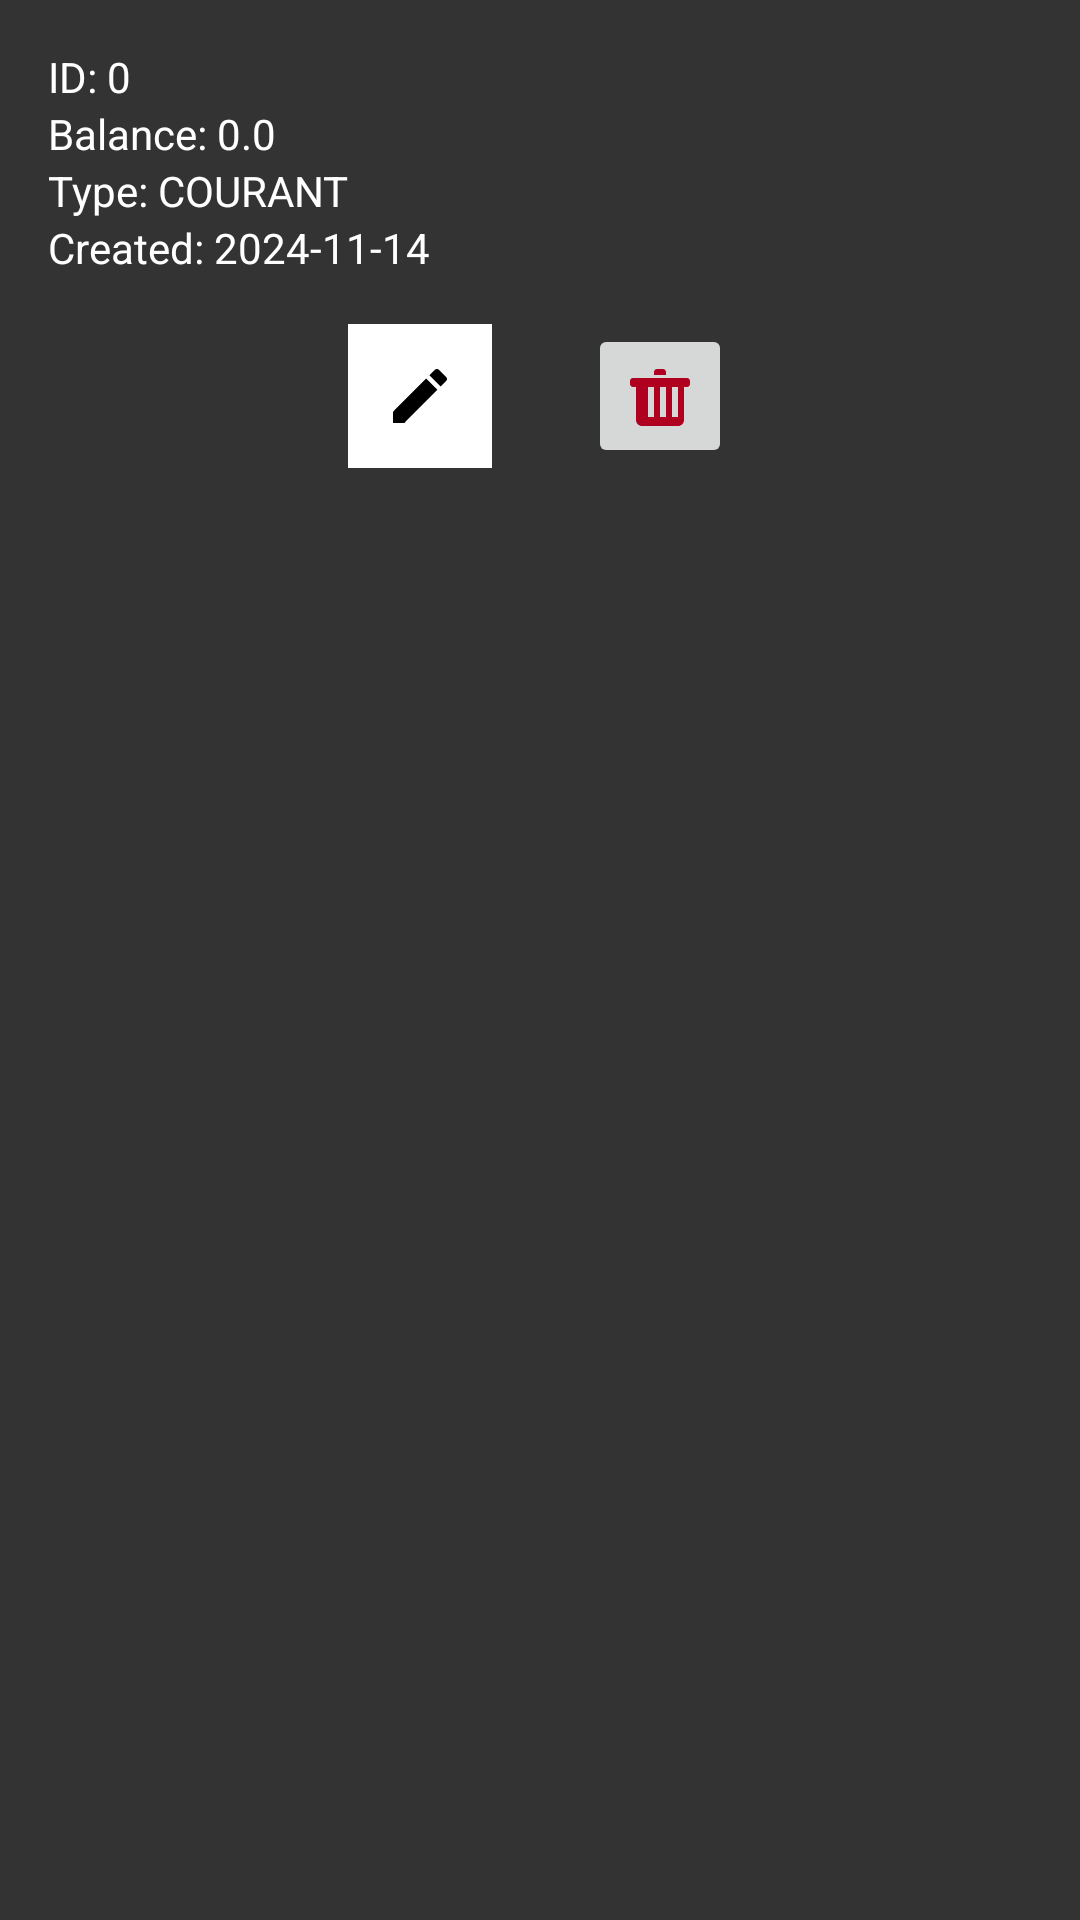

Where icons sit on this 1080 × 1920 app screen, as [x1,y1,x2,y2]:
delete: [600,342,720,450]
edit: [348,324,492,468]
